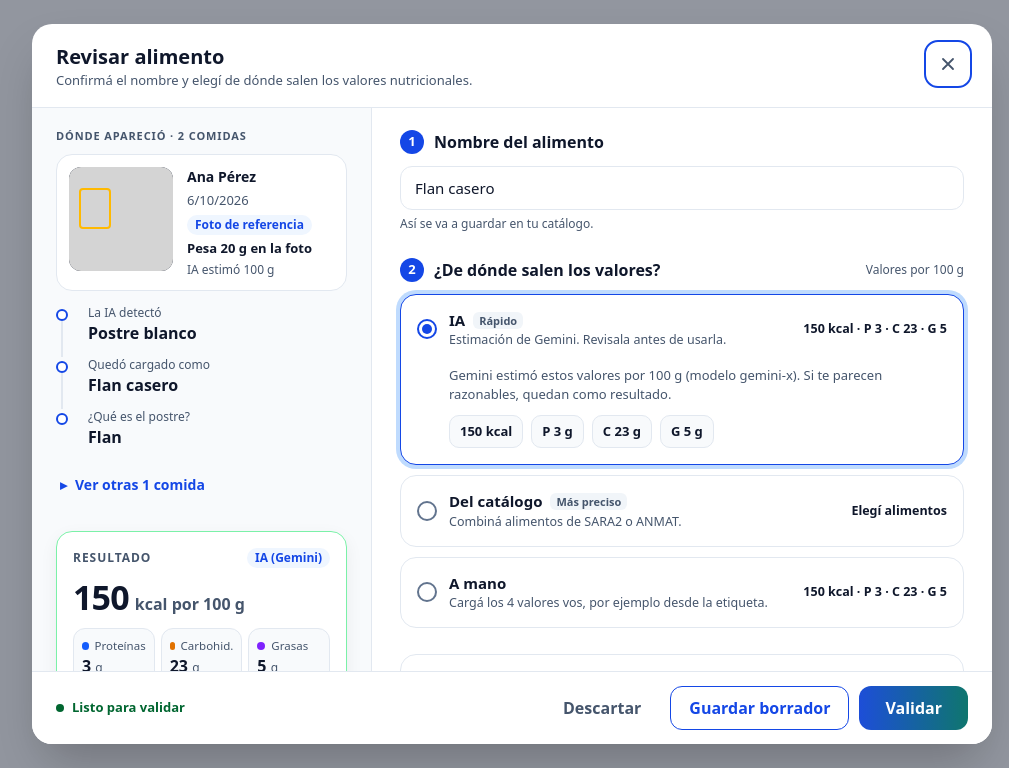
Scenario: PendienteDetalle — contexto › las otras comidas van plegadas bajo "Ver otras N comidas" y se pueden abrir
Expected: the field named "Nombre" is shown, [400,166,964,210]
Expected: the text "Beto Gómez" is not shown
Click the button "▸ Ver otras 1 comida": (202, 485) [56,463,347,507]
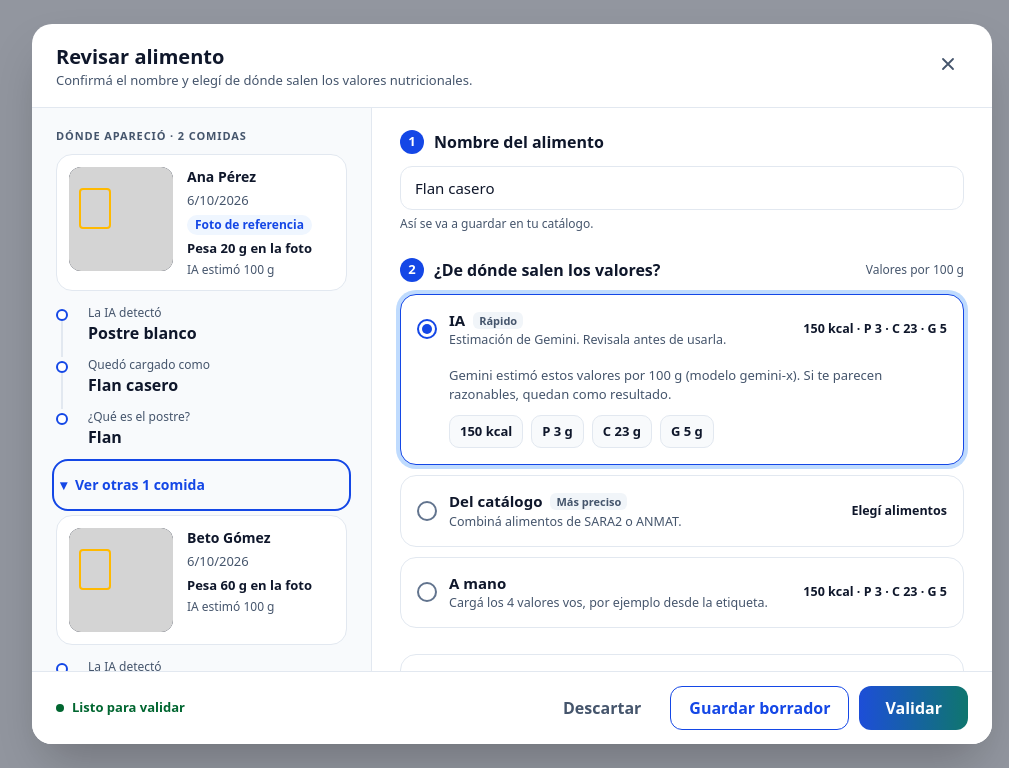
Expected: the button "▾ Ver otras 1 comida" is expanded, [56,463,347,507]
Expected: the text "Beto Gómez" is shown, [187,528,271,547]
Expected: the text "Pesa 60 g en la foto" is shown, [187,576,312,595]
